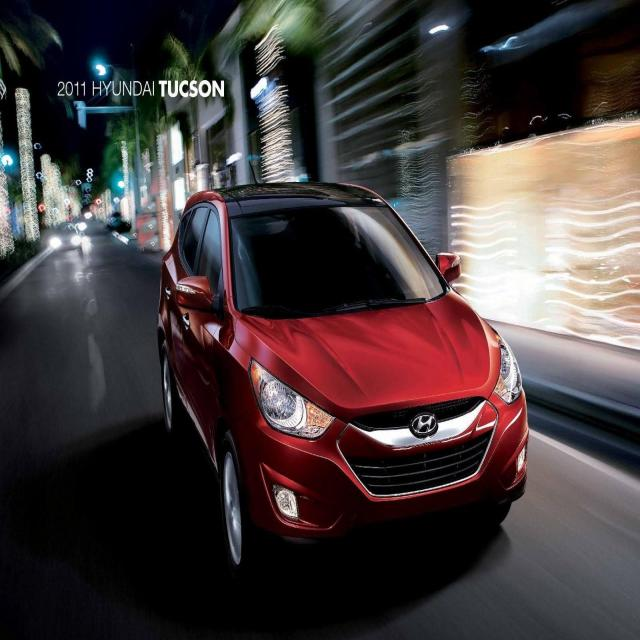Car: (131, 166, 552, 572)
